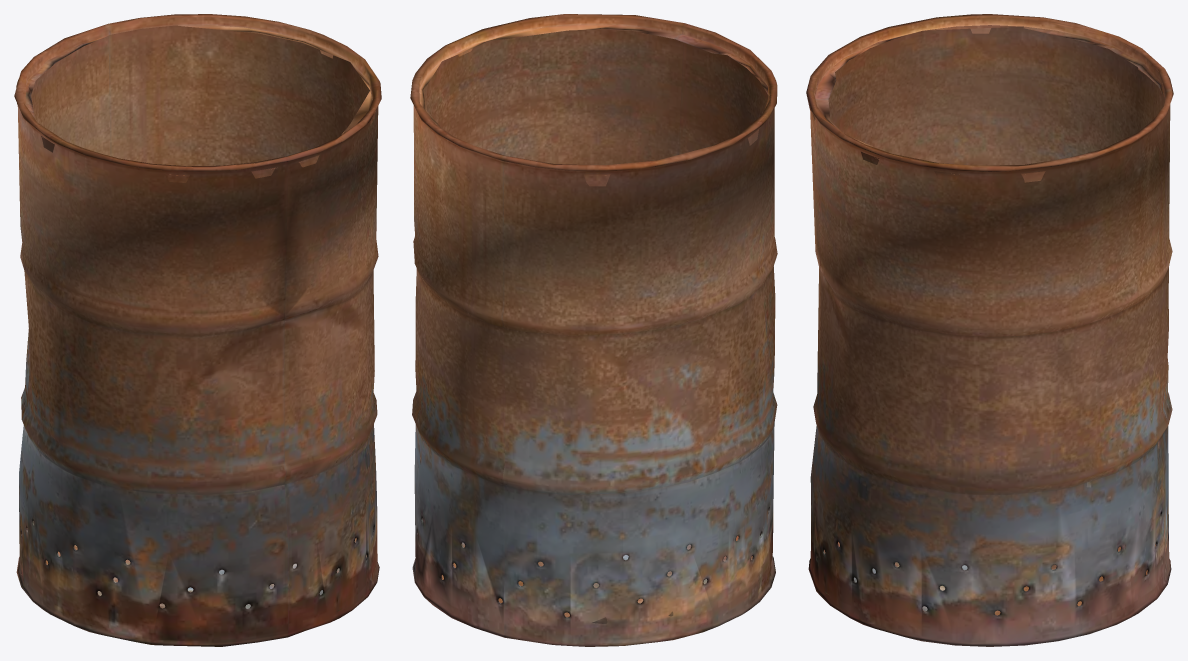
File: stove.glb
3 renders of one model, left to right at view 1: azimuth 30°, elevation 25°; view 2: azimuth 150°, elevation 25°; view 3: azimuth 270°, elevation 25°, orthographic.
Parts seen in each view (by area): view 1: barrel_stove; view 2: barrel_stove; view 3: barrel_stove.
Boxes of the visible parts, bbox=[...] form: barrel_stove: bbox=[14, 14, 381, 646]; barrel_stove: bbox=[410, 14, 777, 646]; barrel_stove: bbox=[806, 14, 1173, 646].
Size of the model in its own units: 0.5902 by 0.8556 by 0.5926.
1 material, 1 textured.
